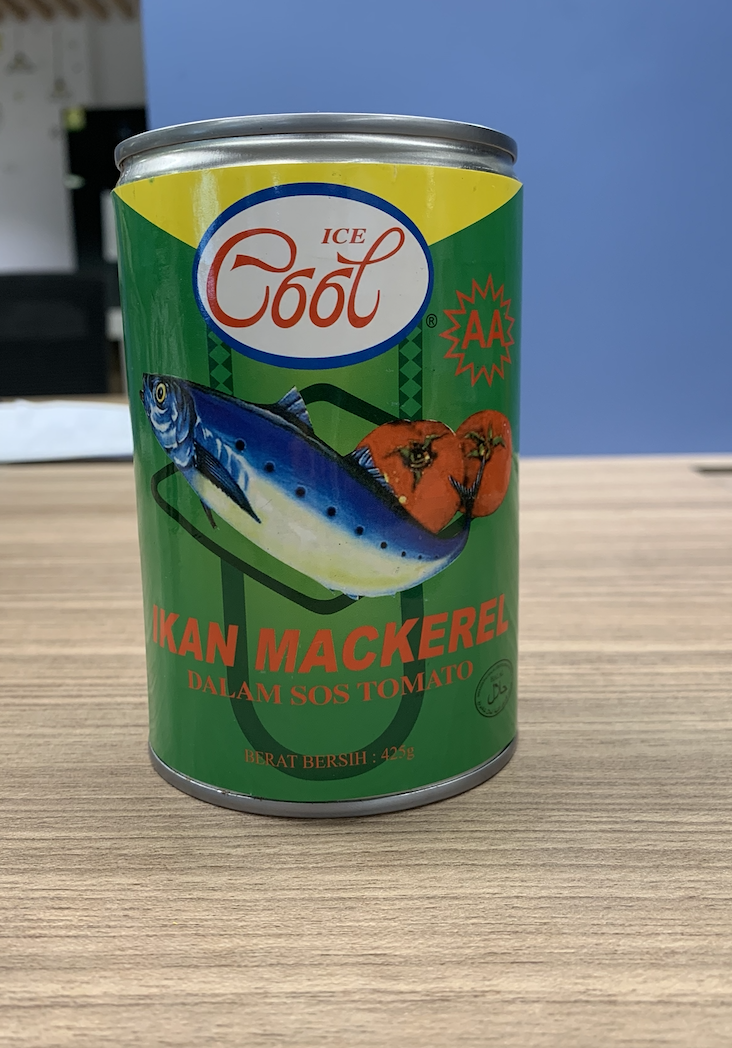sardines_450g: (143, 172, 514, 774)
